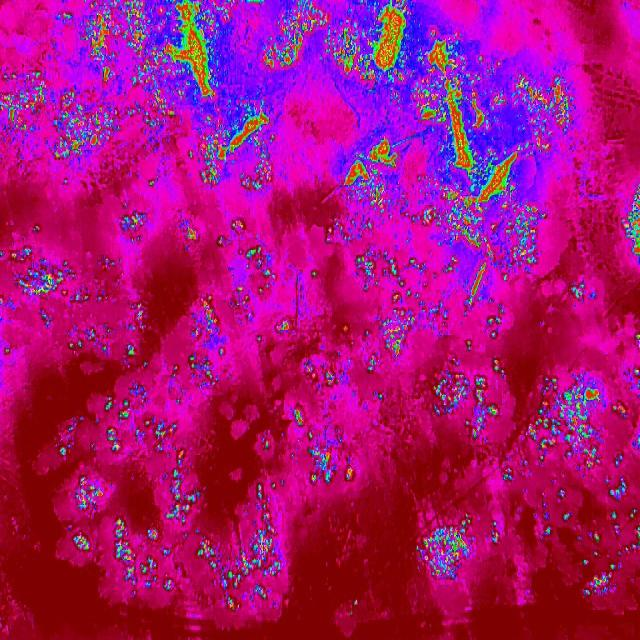fire: (325, 0, 576, 302), (0, 0, 324, 200), (54, 382, 288, 618), (0, 208, 293, 384), (489, 365, 640, 599), (306, 308, 503, 440), (287, 400, 363, 496), (411, 503, 484, 583), (623, 178, 640, 262), (560, 276, 600, 310), (346, 599, 358, 615), (311, 268, 318, 281), (636, 328, 640, 348)
